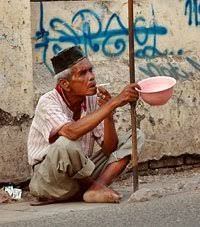gelandangan: (5, 45, 178, 218)
